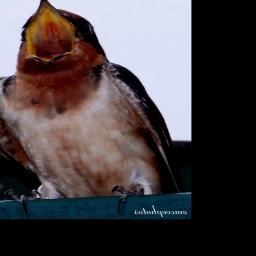Swallow: (0, 0, 184, 213)
